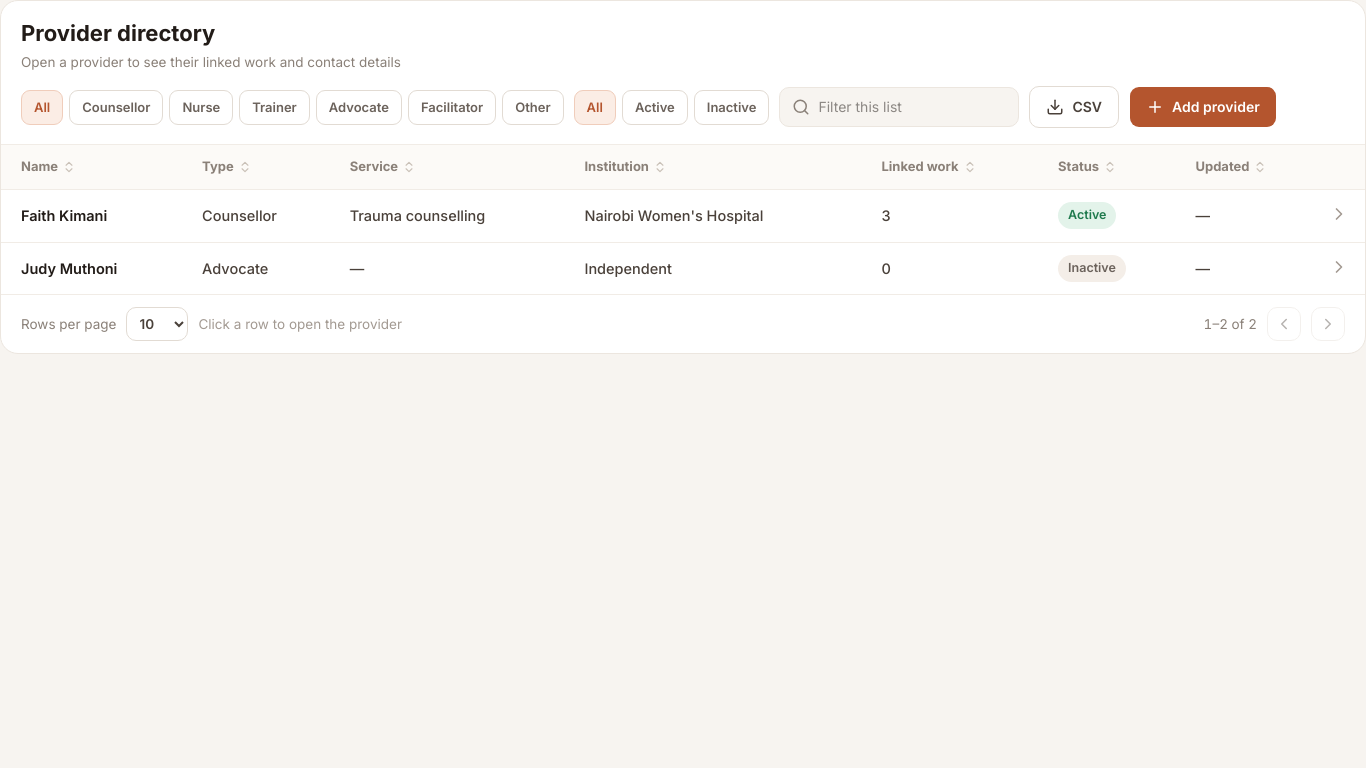
Test case: provider directory › confirms before deactivating
The image size is (1366, 768).
Click the button named "Open Faith Kimani".
click(1339, 214)  # box [1327,202,1351,226]
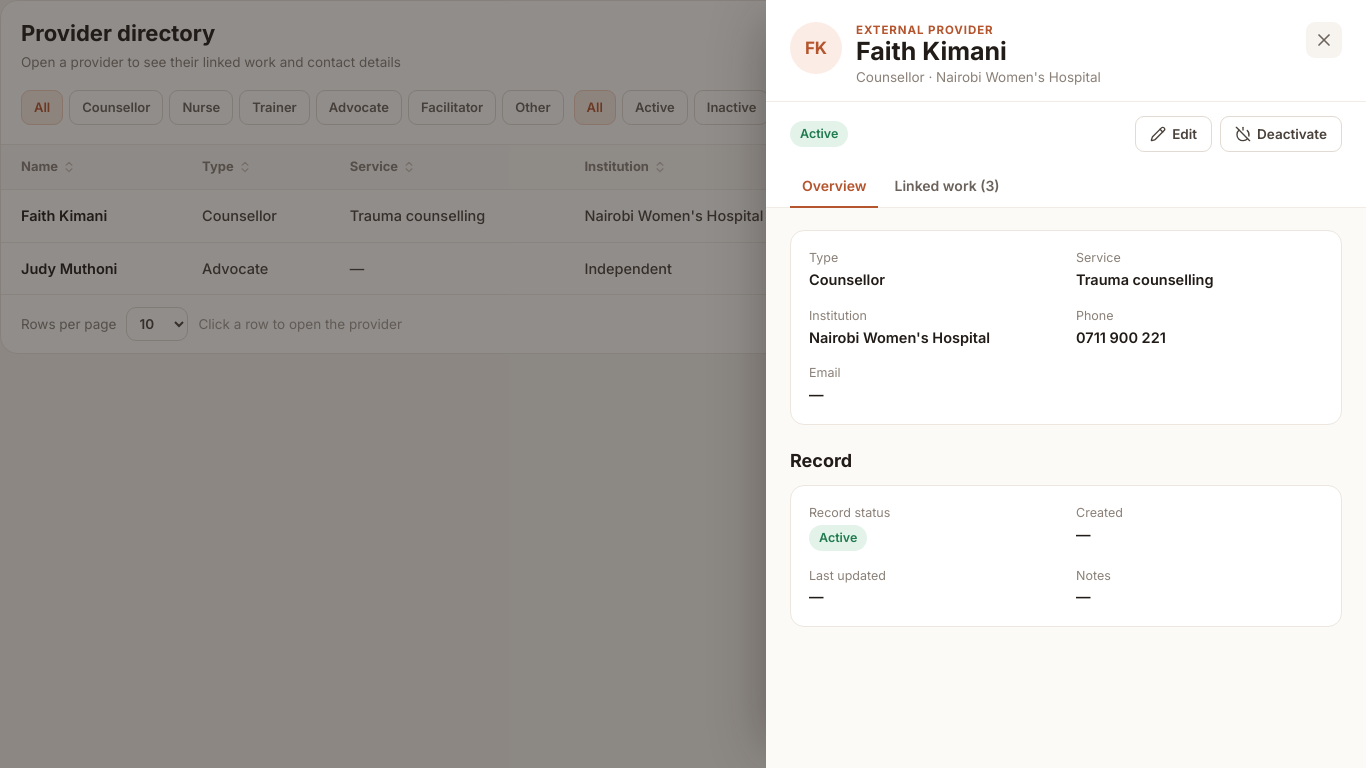
Click the button "Deactivate".
click(1281, 134)  # box [1220,116,1342,152]
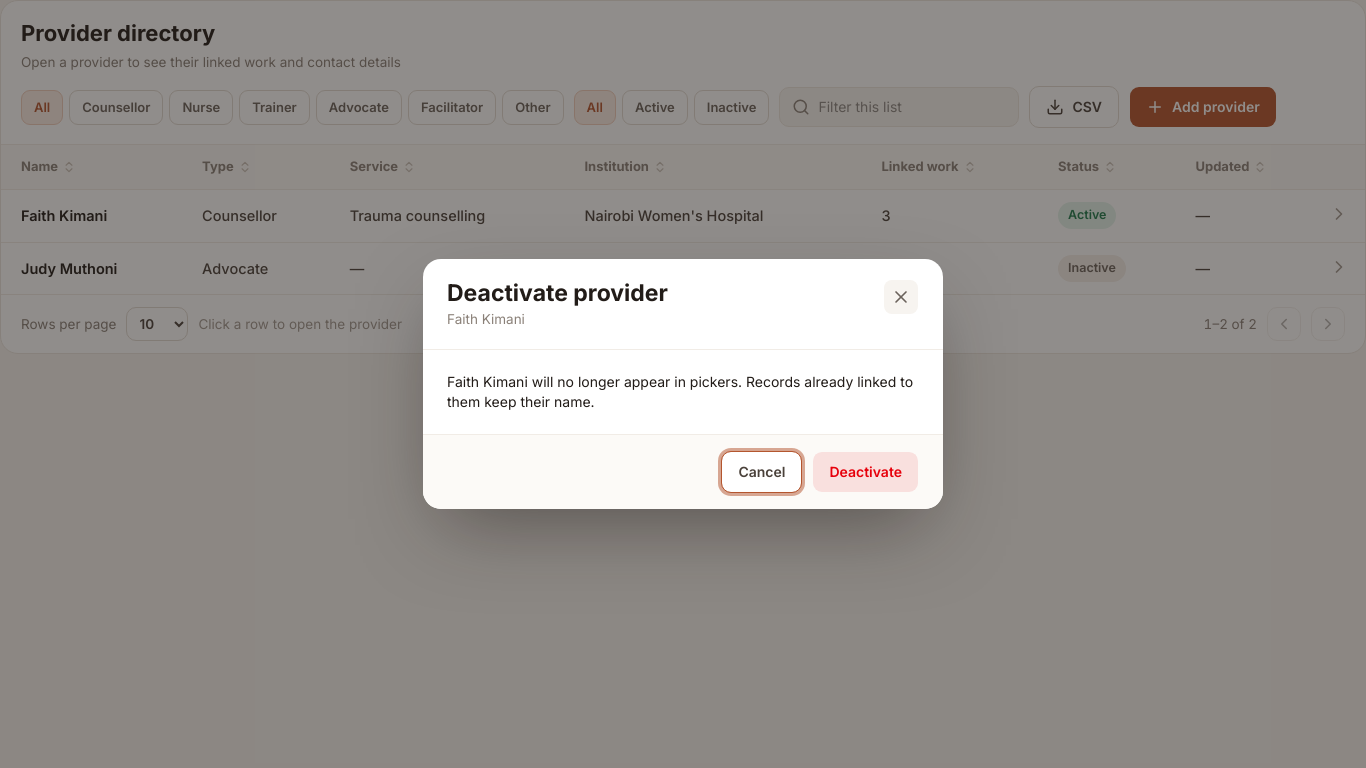
Now the dialog "Deactivate provider" shows "Faith Kimani will no longer appear in pickers. Records already linked to them keep their name.", box [447,373,913,410]
